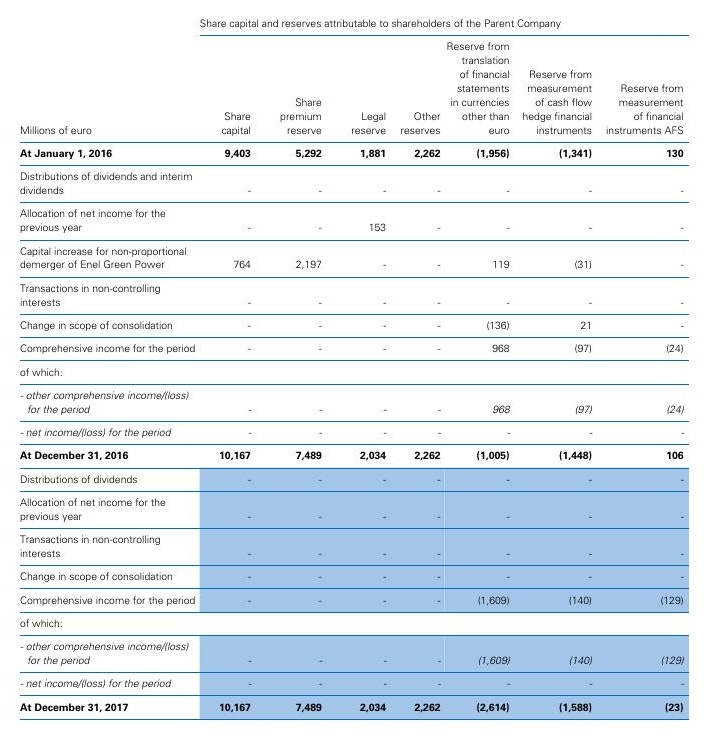table: (0, 0, 712, 742)
